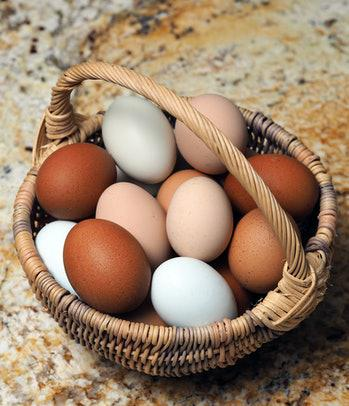egg: (60, 214, 158, 317), (34, 140, 124, 223), (99, 94, 180, 185), (95, 178, 175, 270), (159, 174, 238, 267), (147, 254, 242, 329), (230, 205, 302, 293), (223, 152, 322, 215), (176, 93, 247, 177)
